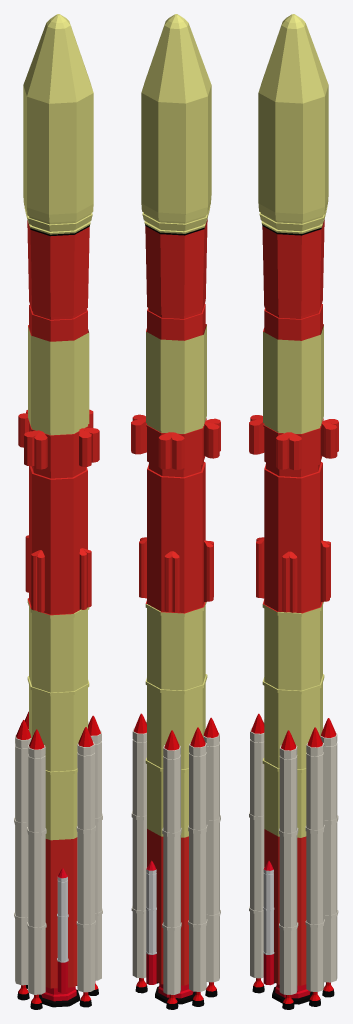
Rendered from PSLV.fbx.
3 renders of one model, left to right at view 1: azimuth 30°, elevation 25°; view 2: azimuth 150°, elevation 25°; view 3: azimuth 330°, elevation 25°, orthographic.
Visible parts, largest first — view 1: Booster middle, Booster top, top panel 2, Big rocket, Big rocket.001, Booster Bottom, small rocket, top panel 1; view 2: Booster middle, Booster top, Big rocket, top panel 1, Big rocket.001, Booster Bottom, small rocket.001, top panel 2; view 3: Booster middle, Big rocket.001, Booster top, top panel 2, Big rocket, Booster Bottom, small rocket, top panel 1.
Part boxes in pixels (x1,y1,x2,y2): Booster middle: (18,409,99,840); Booster top: (23,196,93,435); top panel 2: (27,14,93,214); Big rocket: (14,711,46,1009); Big rocket.001: (76,715,102,1007); Booster Bottom: (39,837,79,1007); small rocket: (57,868,68,992); top panel 1: (23,15,56,206); Booster middle: (131,414,220,837); Booster top: (141,196,211,433); Big rocket: (162,717,220,1009); top panel 1: (141,14,207,213); Big rocket.001: (131,713,158,993); Booster Bottom: (147,829,195,1004); small rocket.001: (146,860,156,984); top panel 2: (174,14,211,205); Booster middle: (249,415,338,837); Big rocket.001: (279,718,338,1009); Booster top: (258,196,328,433); top panel 2: (258,14,324,213); Big rocket: (249,713,274,993); Booster Bottom: (264,829,312,1004); small rocket: (263,861,274,985); top panel 1: (295,15,328,205).
Bounding box in the file's own units: 290 × 3566 × 289.
